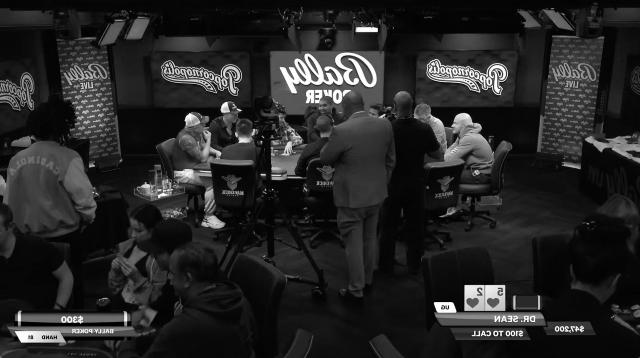2H: (465, 286, 485, 312)
5H: (486, 286, 504, 312)
